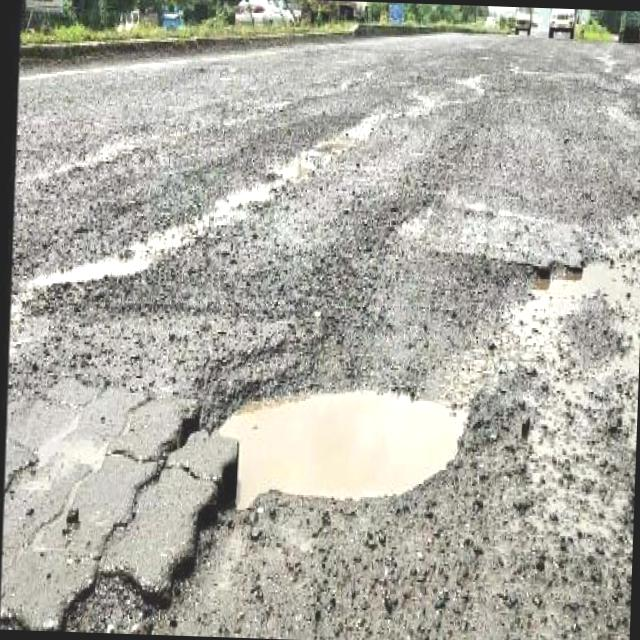Lubang: (220, 392, 466, 508)
